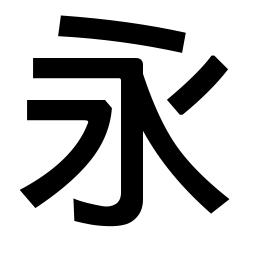D: (56, 12, 187, 54)
HSZ: (109, 56, 147, 89)
Hs: (29, 55, 54, 81)
Ne: (193, 184, 234, 218)
PNc: (145, 95, 190, 142)
PZe: (17, 172, 60, 210)
Ps: (196, 54, 230, 86)
SG: (70, 190, 146, 231)
Sm: (118, 146, 145, 179)
TPZ: (79, 98, 113, 139)
Ts: (25, 98, 52, 123)
